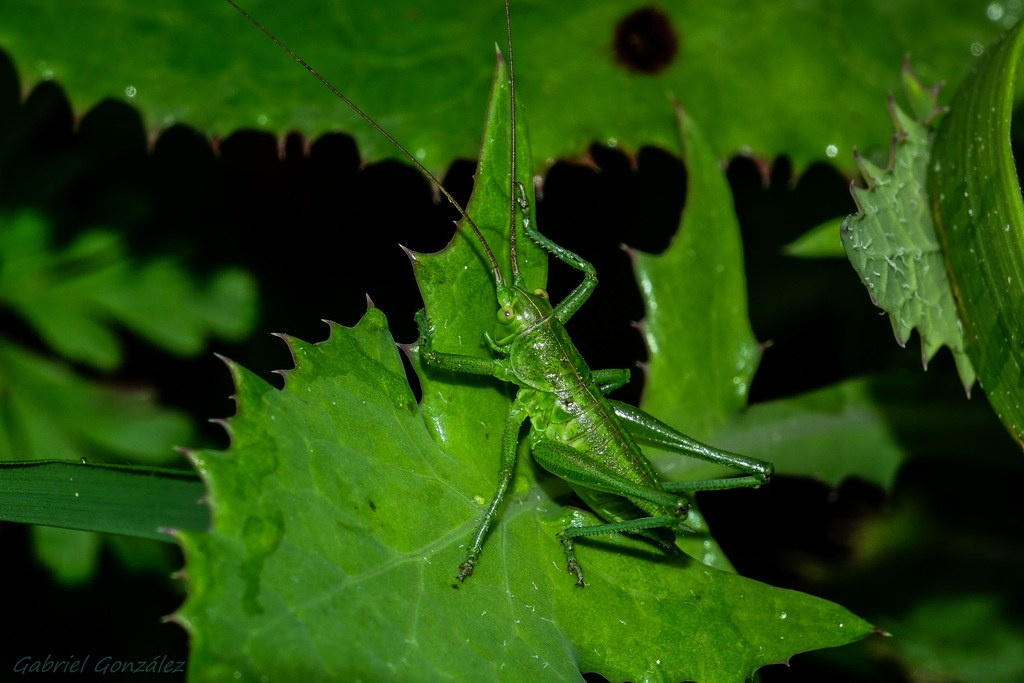insect: (223, 0, 776, 589)
